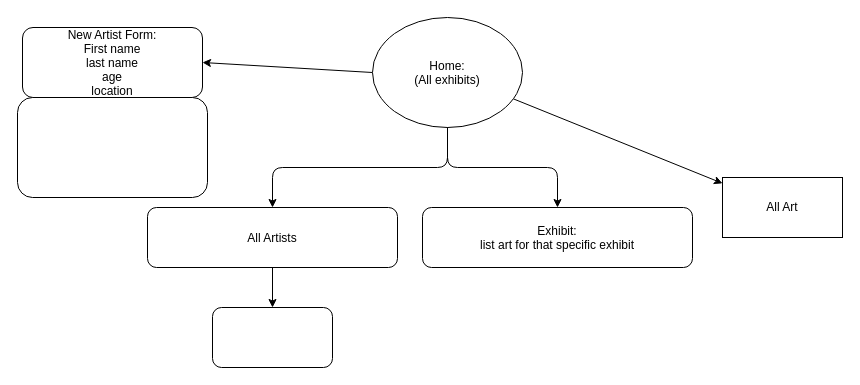
The diagram is 860 pixels wide and 385 high, and some of its shapes have lost their labels. Each missing label, with the box of its shape:
Add Art Form: title medium description image_url artist id: (16, 96, 208, 198)
List all art from that artist: (212, 306, 332, 368)
